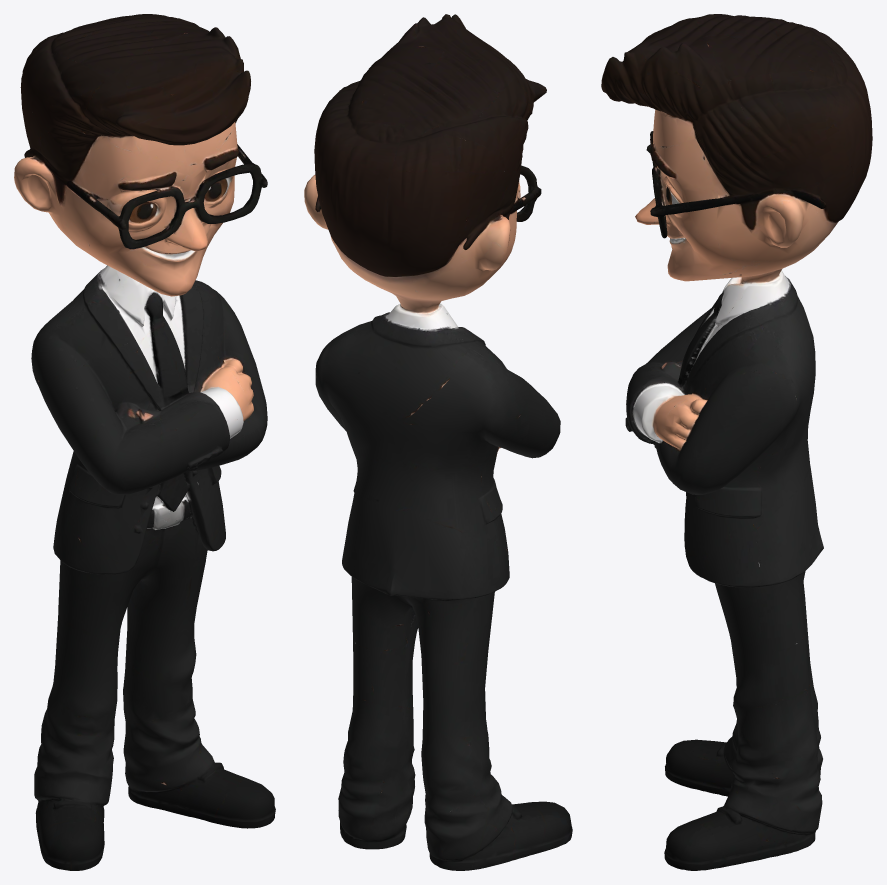
Rendered from businessman.glb.
3 renders of one model, left to right at view 1: azimuth 30°, elevation 25°; view 2: azimuth 150°, elevation 25°; view 3: azimuth 270°, elevation 25°, orthographic. The views are drawn at different scales.
Bounding box in the file's own units: 0.0351 × 0.12 × 0.0369.
Materials: 1 (1 with a texture image).
